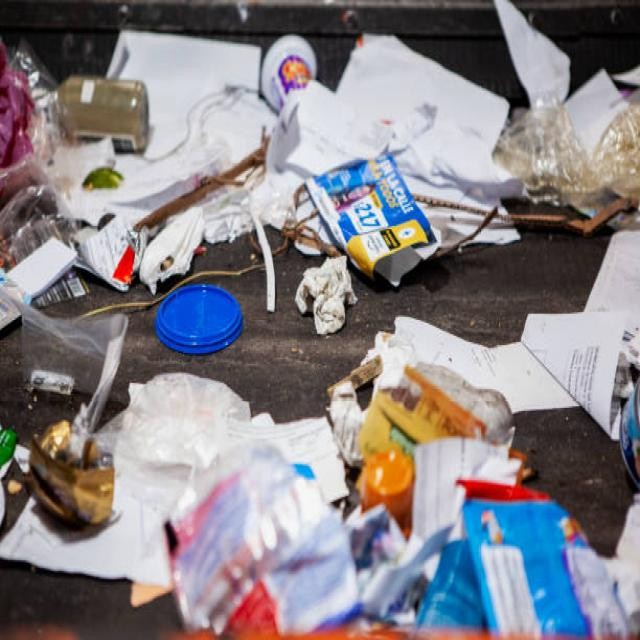paper: (266, 9, 560, 281)
